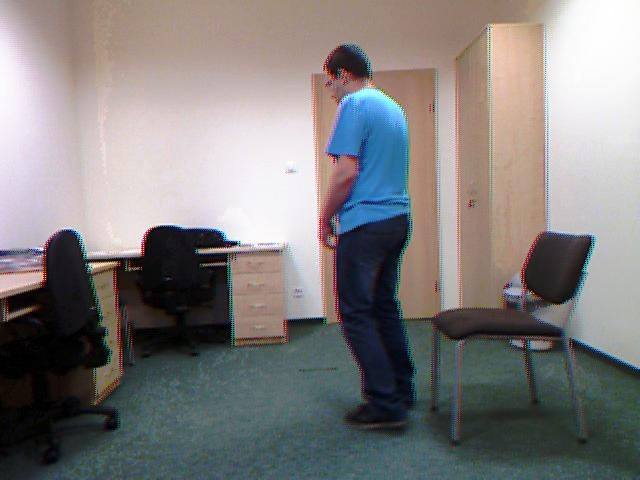standing: (296, 36, 433, 442)
